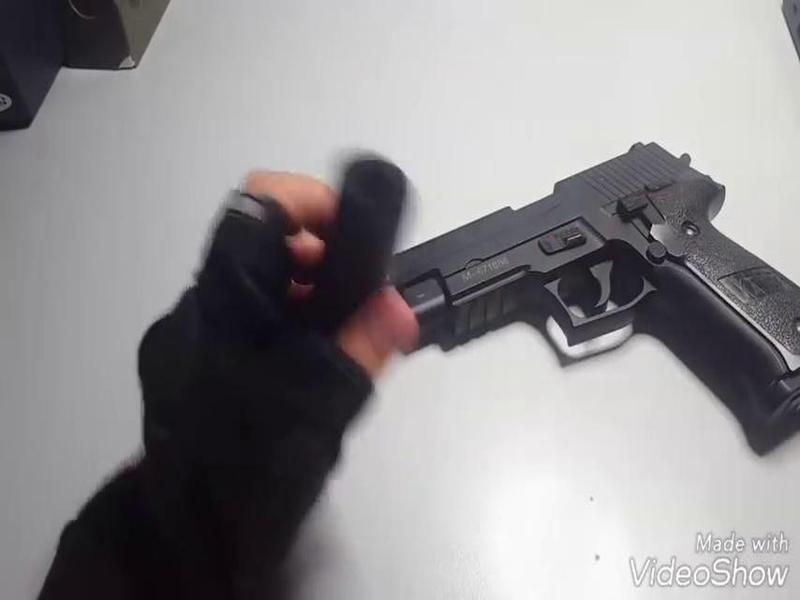Pistola: (392, 131, 800, 431)
